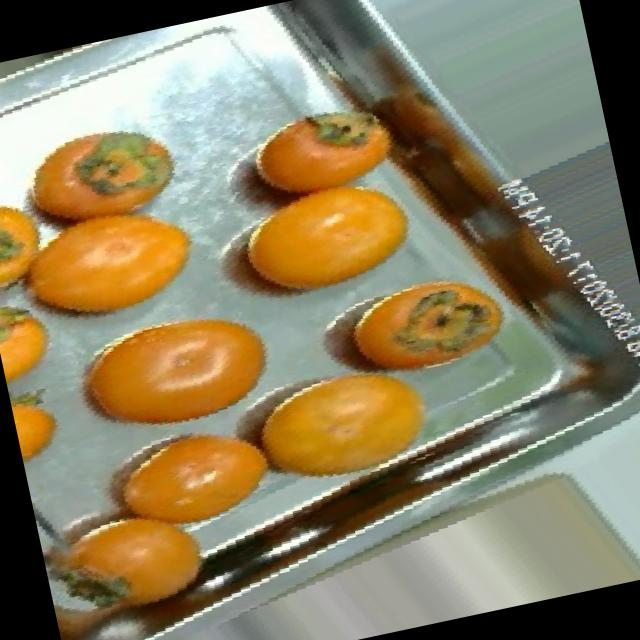Fruit: (204, 150, 442, 327), (225, 346, 468, 512), (65, 284, 298, 452), (304, 240, 532, 403), (0, 179, 218, 347), (0, 99, 201, 249), (0, 173, 66, 310), (9, 384, 74, 473)
